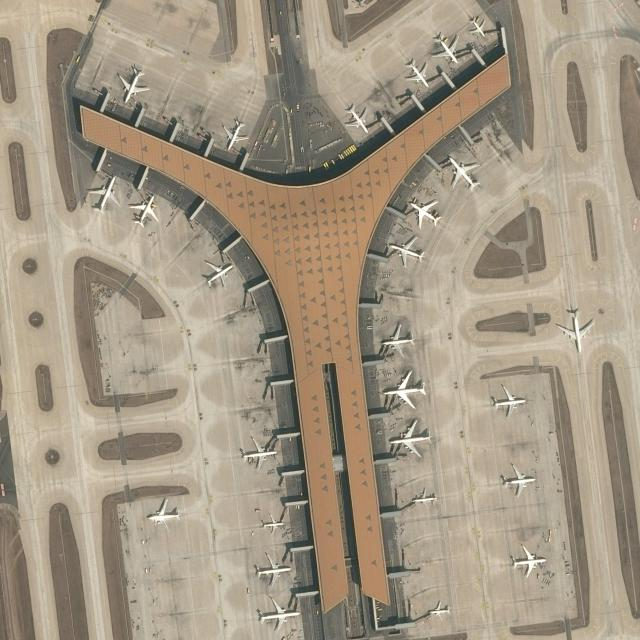aircraft: (554, 306, 594, 354), (384, 370, 426, 410), (390, 420, 432, 458), (235, 437, 280, 471), (252, 554, 292, 589), (446, 154, 481, 194), (116, 62, 150, 102), (88, 171, 120, 213), (389, 233, 426, 269), (491, 383, 528, 419), (259, 600, 301, 630), (512, 540, 547, 576), (499, 462, 536, 496), (201, 256, 237, 290), (144, 499, 182, 531), (382, 321, 416, 356), (130, 190, 160, 228), (408, 196, 443, 228), (221, 117, 249, 151), (434, 32, 461, 66), (404, 58, 432, 86), (342, 104, 368, 130), (258, 514, 286, 536), (464, 16, 489, 38), (412, 488, 438, 508), (426, 602, 452, 618)
